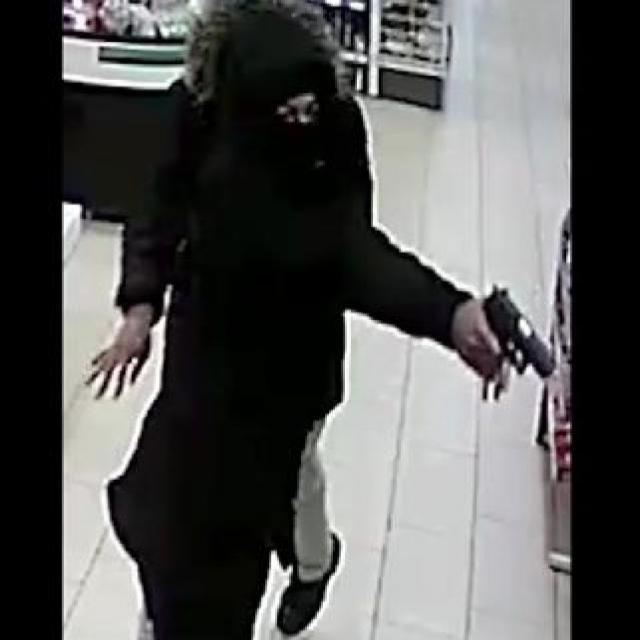weapon: (481, 285, 558, 379)
